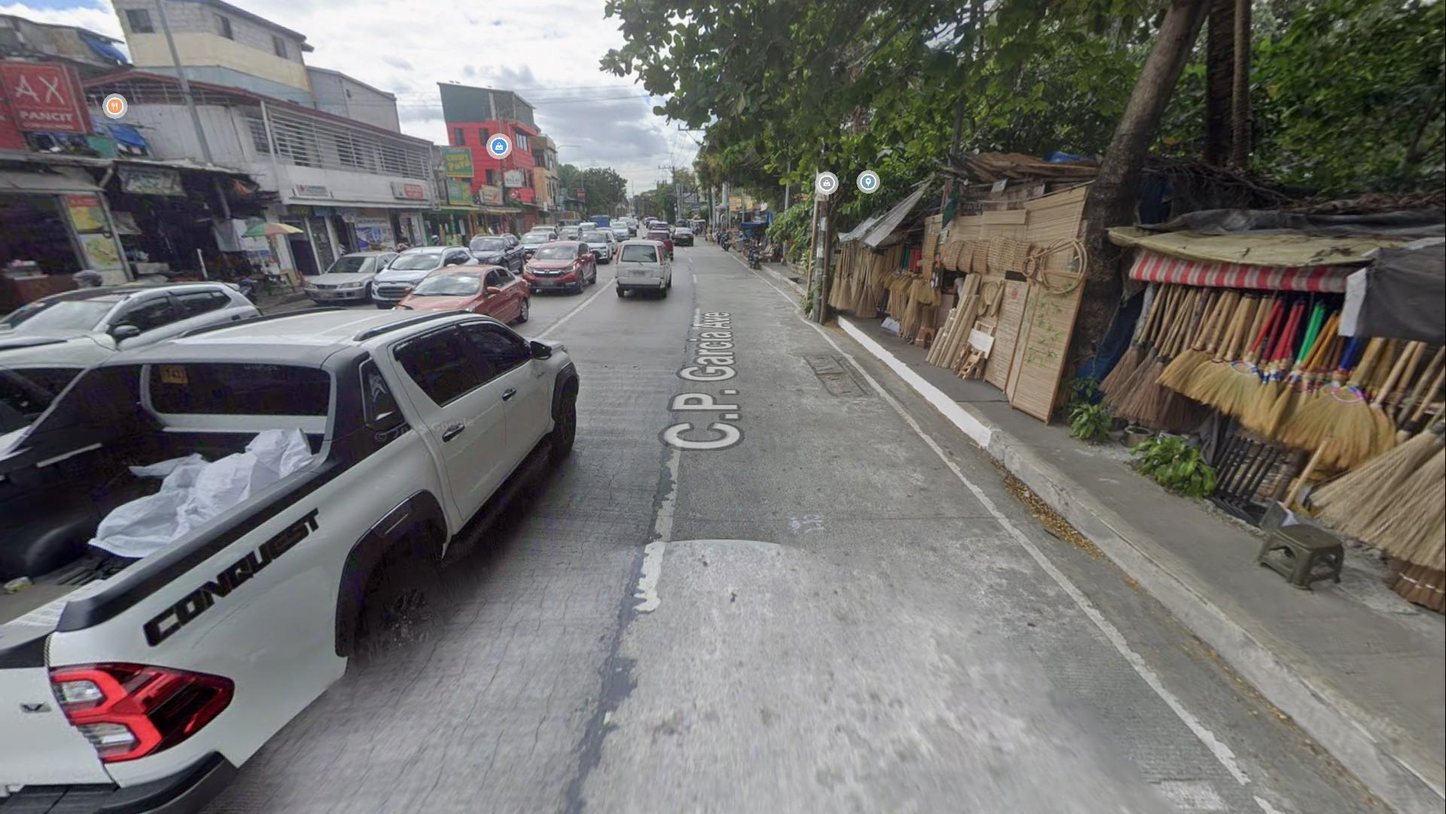pedestrian: (716, 228, 722, 245)
